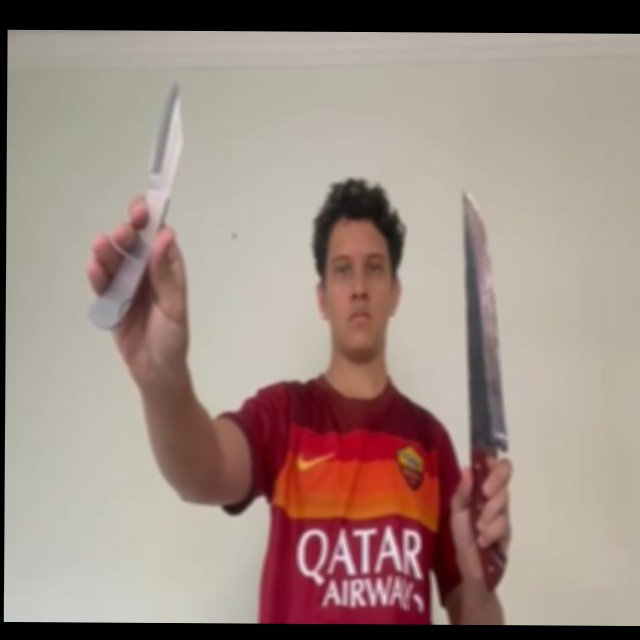Sharp-Object: (461, 190, 510, 451), (148, 80, 184, 184)
